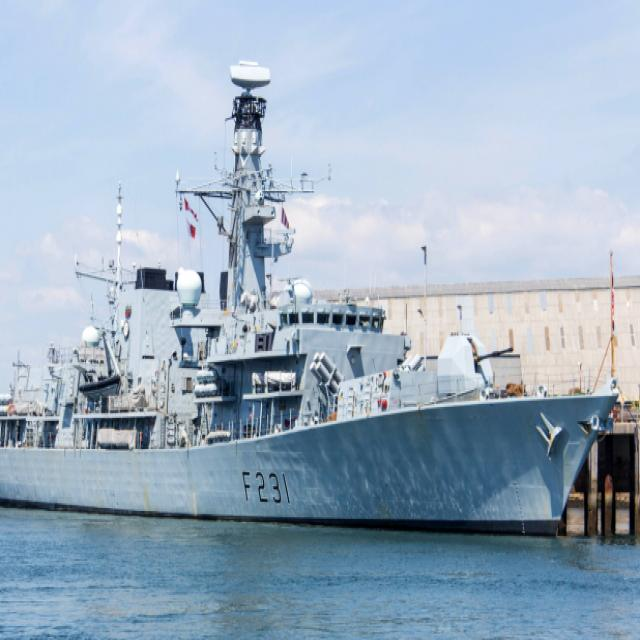Fragata: (1, 35, 629, 546)
